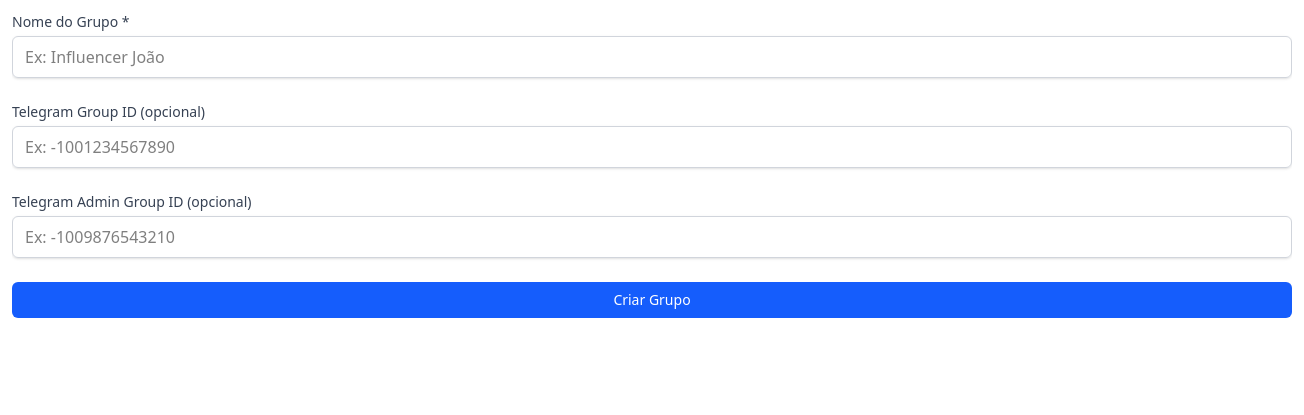
GroupForm › validates telegram ID is a number
Type "Grupo Teste" into the field labelled "Nome do Grupo *" at (652, 57), box [12,36,1292,78]
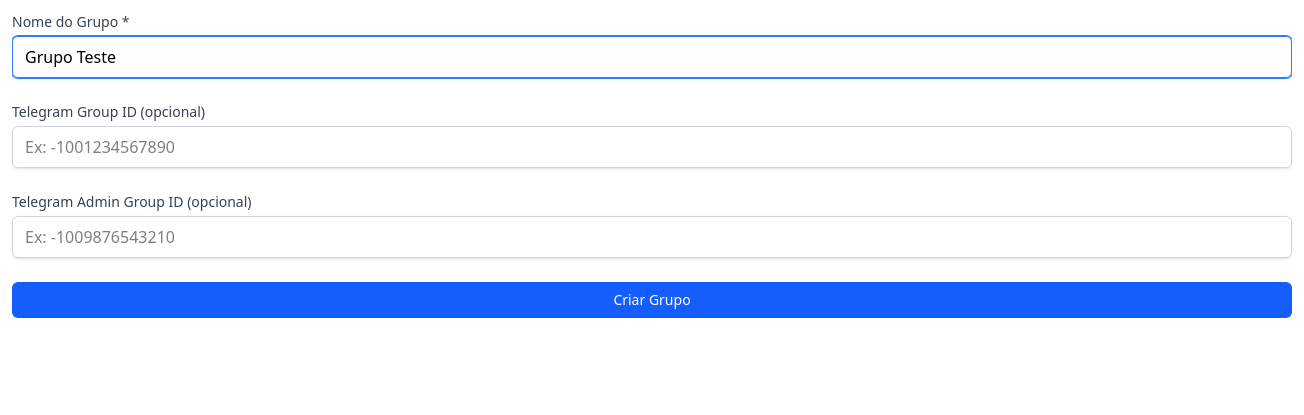
Type "not-a-number" into the field labelled "Telegram Group ID (opcional)" at (652, 147), box [12,126,1292,168]
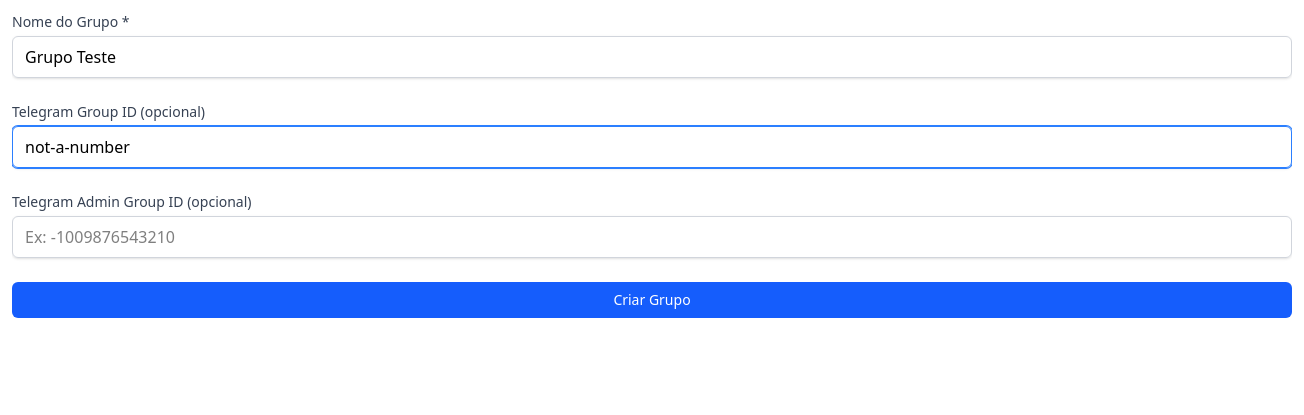
Click the button "Criar Grupo" at (652, 300), box [12,282,1292,318]
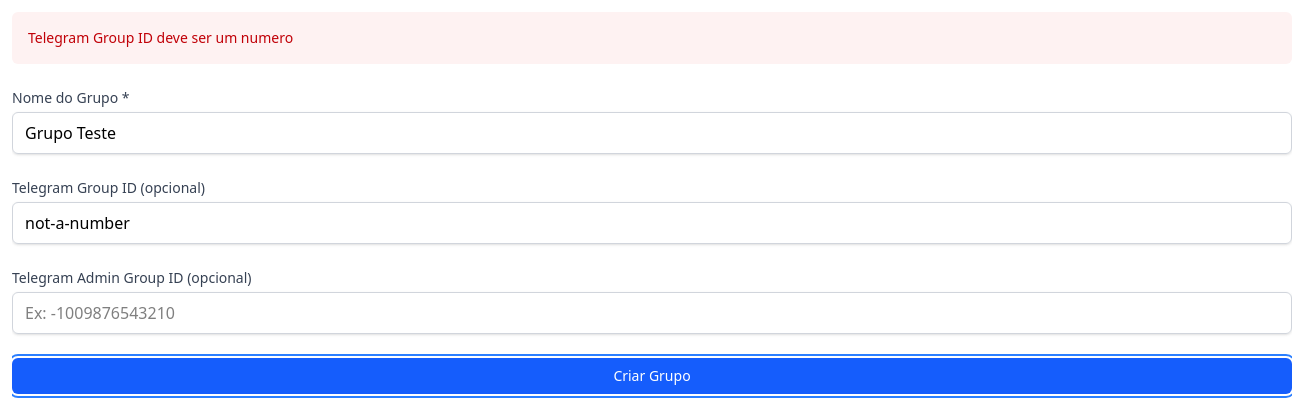
Result: the text "Telegram Group ID deve ser um numero" is shown at [28,28,293,47]
